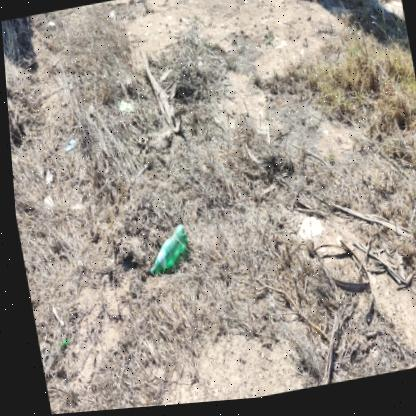Plastic: (145, 226, 184, 279), (52, 339, 64, 347)
Waste: (118, 102, 133, 114), (62, 139, 73, 152), (145, 271, 149, 279)
